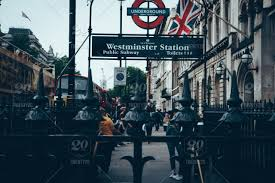London Underground: (125, 1, 170, 29)
